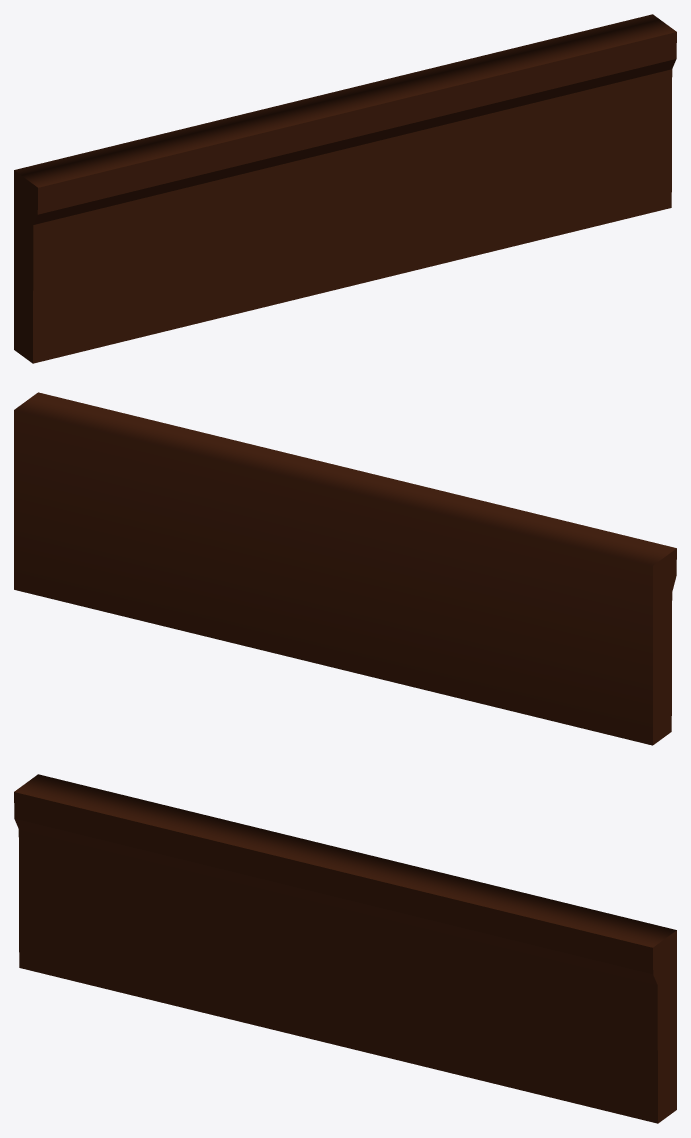
Rendered from Saloon_001_Wall_004.fbx.
The picture shows the model from 3 angles, top to bottom: view 1: azimuth 30°, elevation 25°; view 2: azimuth 150°, elevation 25°; view 3: azimuth 330°, elevation 25°; orthographic projection.
Parts seen in each view (by area): view 1: Saloon_001_Wall_004; view 2: Saloon_001_Wall_004; view 3: Saloon_001_Wall_004.
Part boxes in pixels (bbox=[...]): Saloon_001_Wall_004: bbox=[14, 14, 676, 363]; Saloon_001_Wall_004: bbox=[14, 392, 676, 745]; Saloon_001_Wall_004: bbox=[14, 774, 676, 1123].
Bounding box in the file's own units: 503 × 135 × 32.97.
